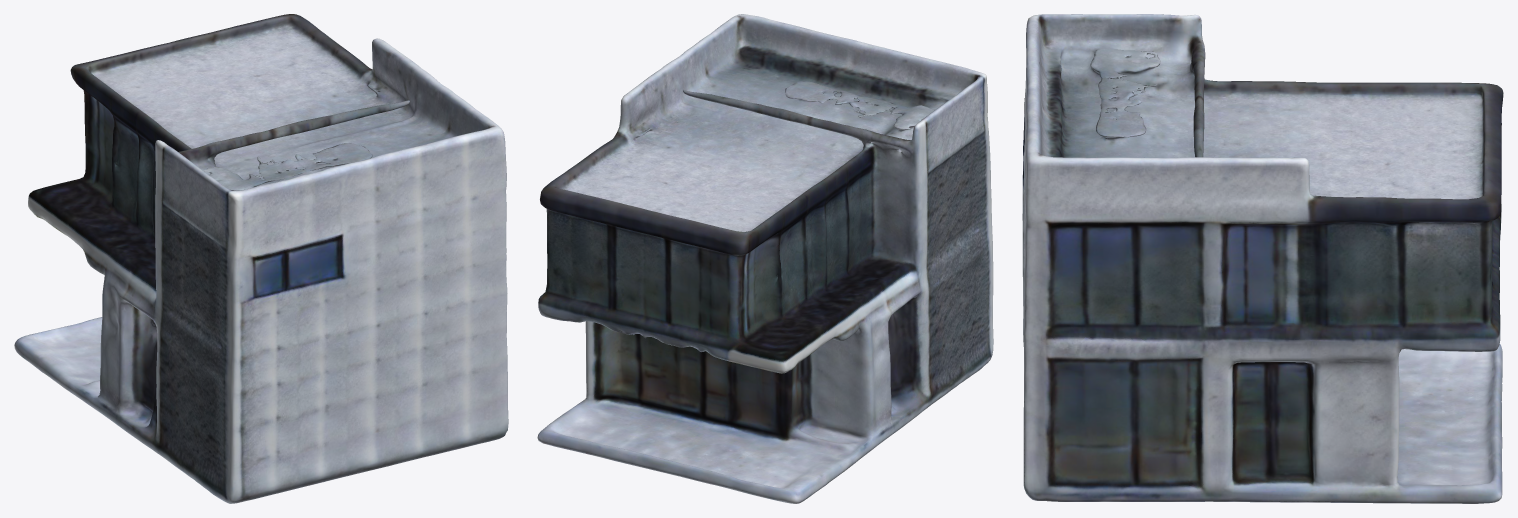
The model's file is domek2_luma.glb.
3 renders of one model, left to right at view 1: azimuth 30°, elevation 25°; view 2: azimuth 150°, elevation 25°; view 3: azimuth 270°, elevation 25°, orthographic. The views are drawn at different scales.
Visible parts, largest first — view 1: geometry_0; view 2: geometry_0; view 3: geometry_0.
Boxes of the visible parts, x1,y1,x2,y2 form: geometry_0: (14, 14, 508, 503); geometry_0: (537, 14, 993, 503); geometry_0: (1022, 14, 1503, 503).
Bounding box in the file's own units: 0.3115 × 0.3423 × 0.4126.
Materials: 1 (1 with a texture image).
